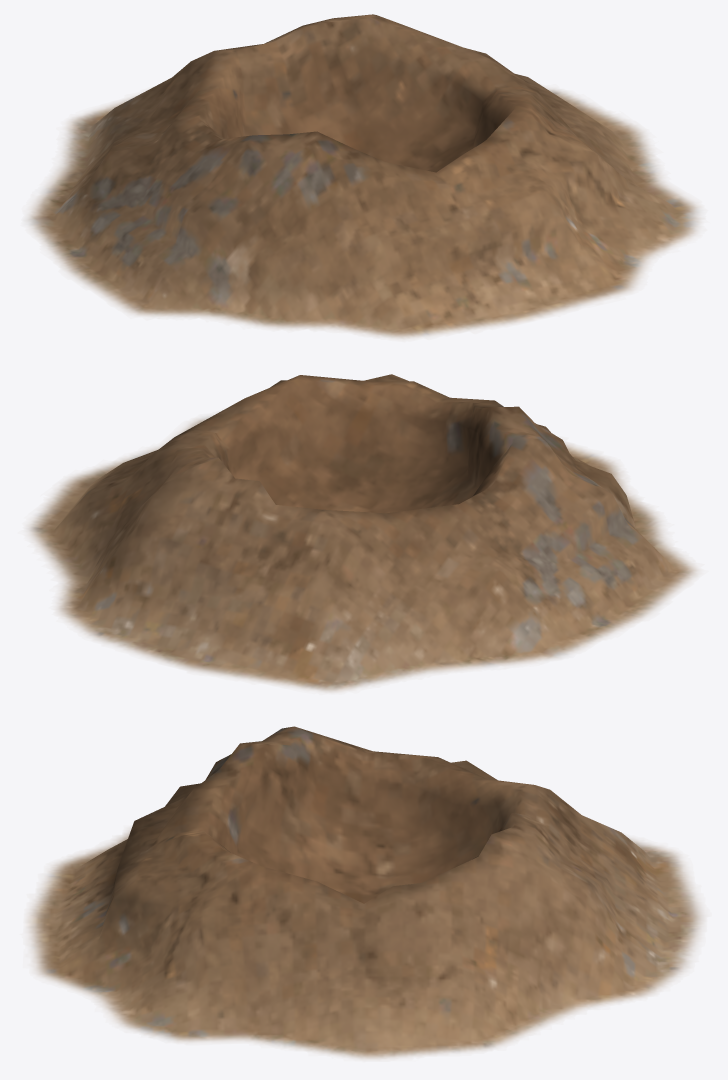
Rendered from field_item401.glb.
3 renders of one model, top to bottom at view 1: azimuth 30°, elevation 25°; view 2: azimuth 150°, elevation 25°; view 3: azimuth 270°, elevation 25°, orthographic.
Visible parts, largest first — view 1: um_field_item401_model_field_item401_modelShape; view 2: um_field_item401_model_field_item401_modelShape; view 3: um_field_item401_model_field_item401_modelShape.
Part boxes in pixels (left/top/right/bottom): um_field_item401_model_field_item401_modelShape: left=26, top=14, right=699, bottom=338; um_field_item401_model_field_item401_modelShape: left=28, top=374, right=697, bottom=691; um_field_item401_model_field_item401_modelShape: left=27, top=726, right=703, bottom=1058.
Bounding box in the file's own units: 2.26 × 0.4584 × 2.26.
1 material, 1 textured.
